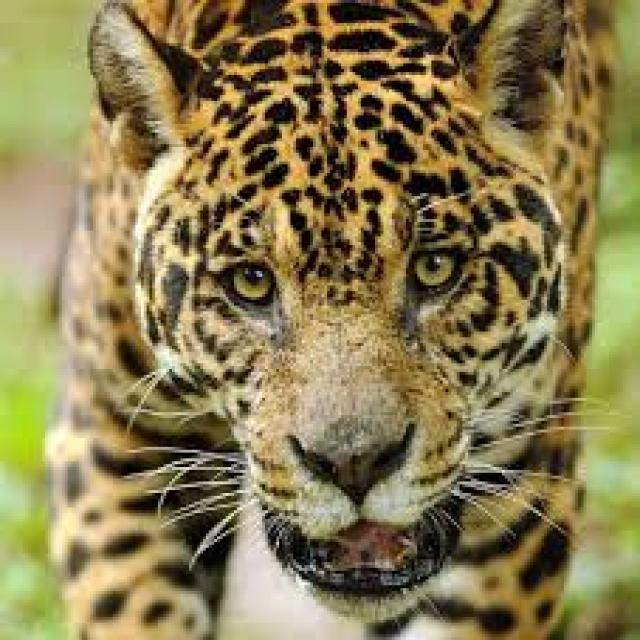Jaguar: (54, 0, 623, 640)
